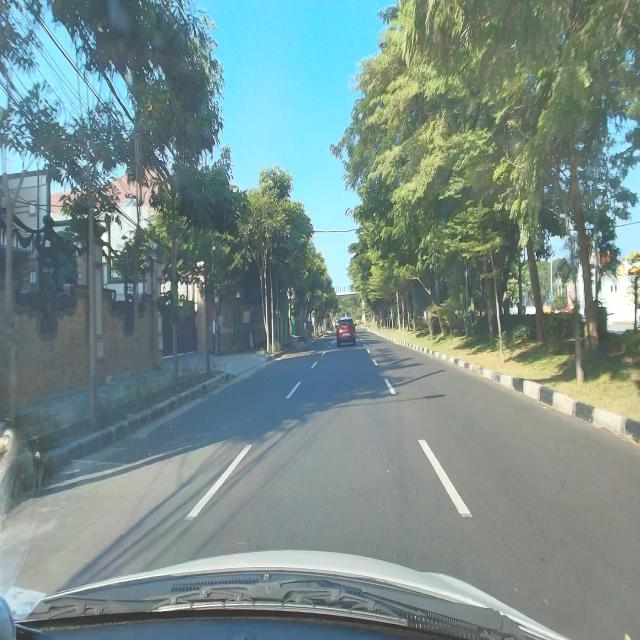car: (335, 317, 357, 348)
